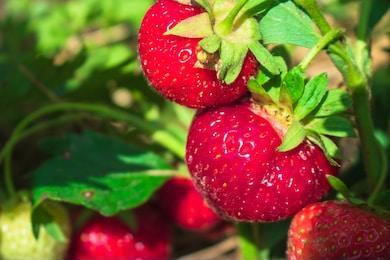Fresa: (179, 82, 340, 230), (132, 1, 262, 115)
